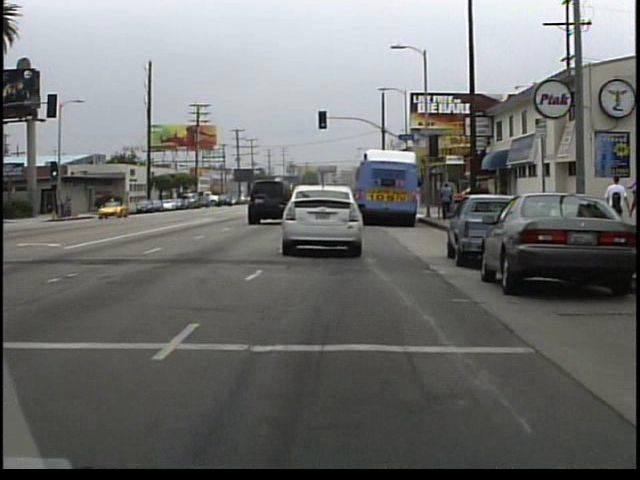person: (601, 169, 629, 239), (437, 181, 453, 216), (109, 193, 122, 217)
